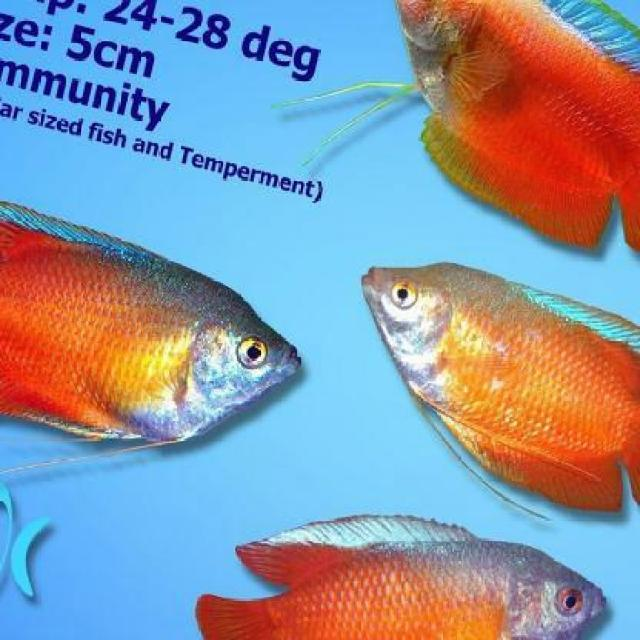Gourami: (0, 194, 302, 452), (358, 259, 638, 523)
